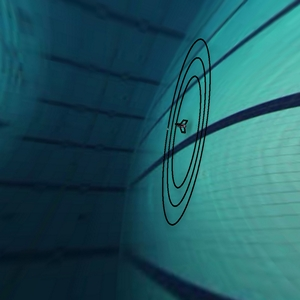circle: (152, 29, 222, 234)
submarine: (171, 110, 193, 147)
